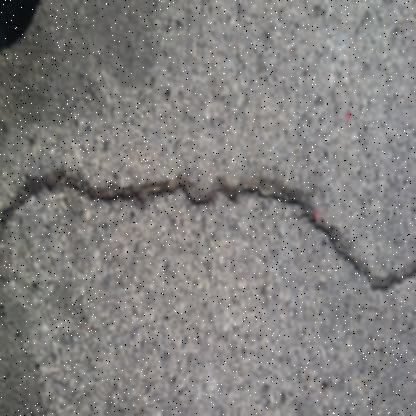Cracks: (0, 150, 415, 299)
